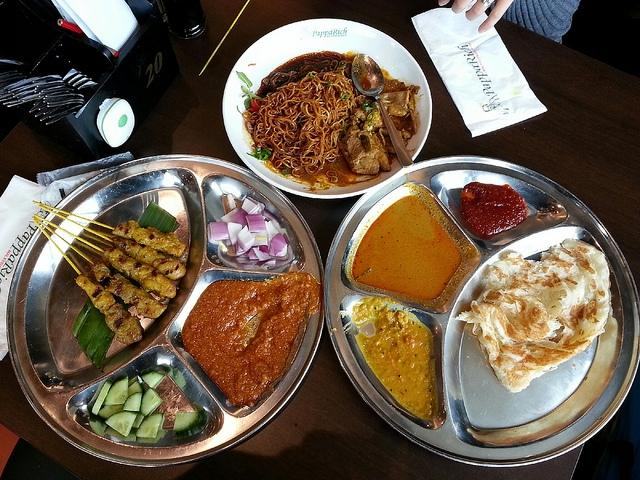cucumber: (98, 381, 142, 419), (104, 410, 137, 437), (104, 372, 128, 406), (91, 380, 112, 416), (140, 388, 164, 419), (136, 412, 162, 438), (172, 411, 200, 433), (165, 366, 186, 390), (121, 391, 142, 412), (140, 372, 166, 388), (89, 419, 107, 437)
